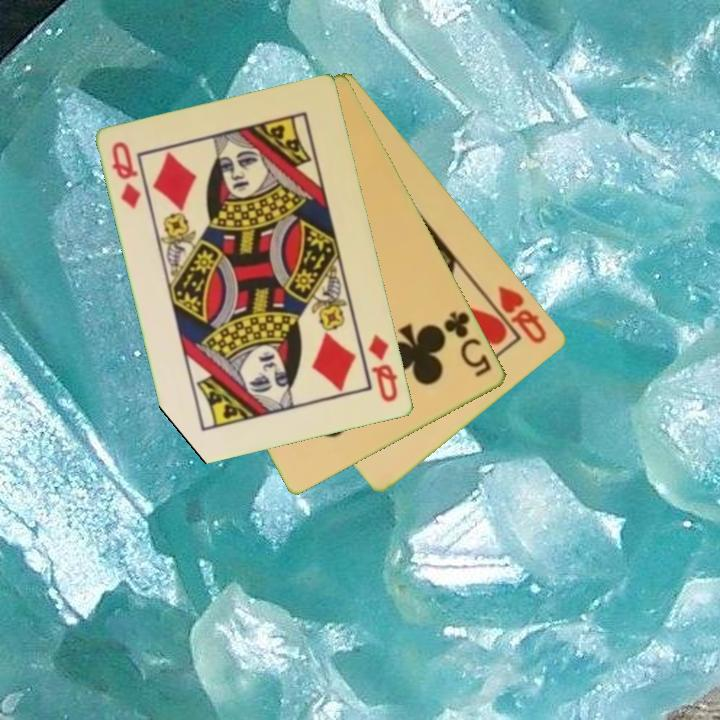5c: (441, 308, 495, 381)
Qd: (365, 330, 402, 406), (108, 138, 145, 212)
Qh: (494, 281, 550, 347)
